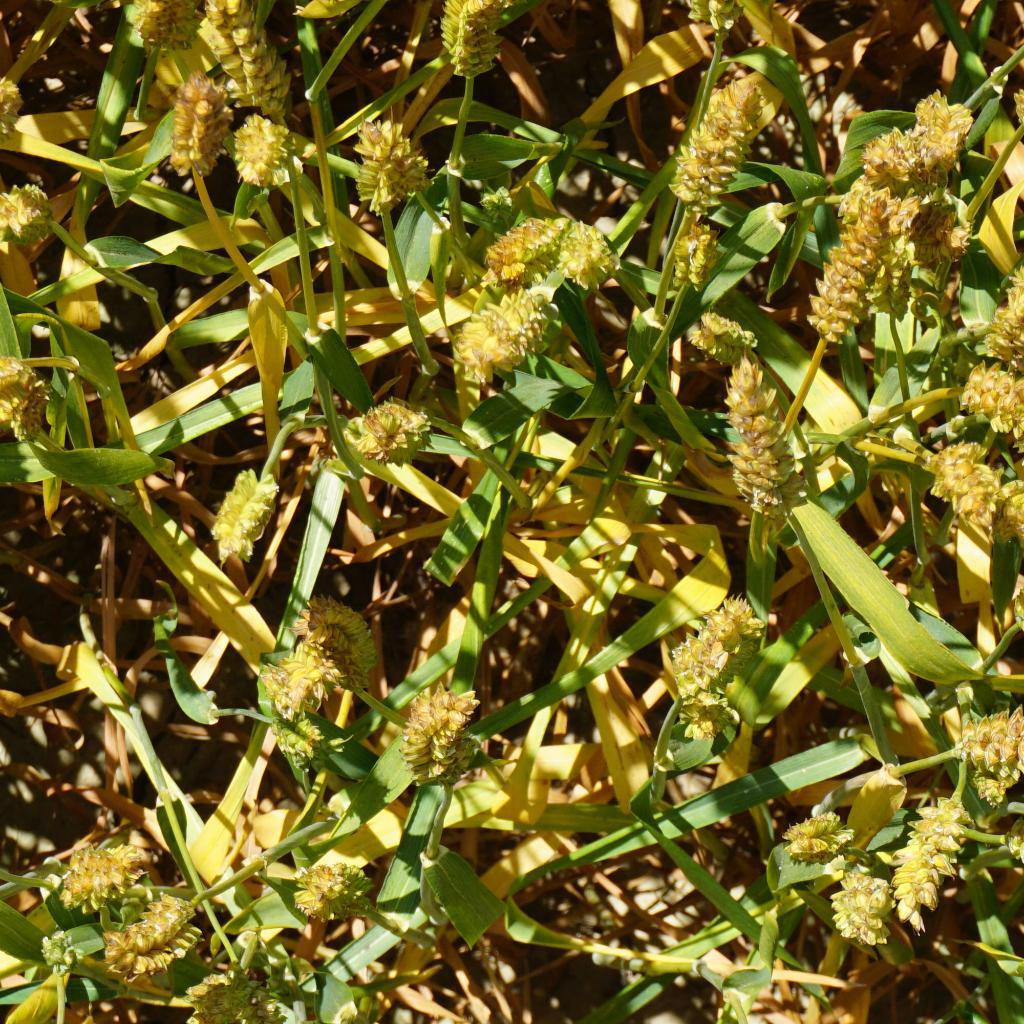0-0: (658, 74, 774, 218), (713, 359, 802, 522), (282, 589, 397, 701), (445, 290, 561, 392), (885, 795, 974, 920), (199, 0, 302, 107), (657, 602, 774, 691), (817, 198, 882, 343), (350, 107, 438, 211), (396, 670, 477, 777), (195, 457, 281, 557), (48, 835, 142, 915), (834, 100, 915, 192), (473, 213, 567, 292), (432, 0, 513, 91), (340, 390, 432, 470), (929, 442, 1009, 531), (107, 889, 197, 968), (641, 209, 724, 290), (290, 856, 380, 929), (953, 703, 1024, 785), (828, 871, 896, 956), (906, 86, 971, 171), (268, 635, 337, 715), (259, 711, 345, 774), (219, 115, 289, 192), (166, 73, 219, 174), (681, 308, 760, 371), (552, 217, 614, 297), (977, 257, 1024, 358), (780, 792, 857, 852), (677, 683, 748, 747), (0, 183, 60, 254), (870, 230, 918, 316), (0, 350, 48, 435), (920, 194, 974, 269), (177, 972, 254, 1024), (968, 361, 1024, 427), (130, 0, 191, 57), (691, 0, 757, 48), (242, 986, 304, 1024), (37, 928, 85, 975), (982, 478, 1024, 531), (0, 84, 20, 156), (473, 186, 518, 218), (1006, 78, 1024, 142), (1011, 545, 1024, 632)
